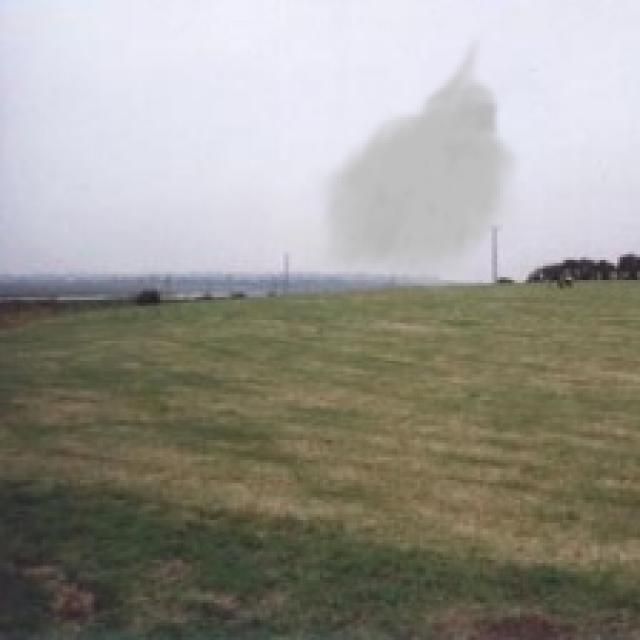smoke: (306, 28, 526, 292)
